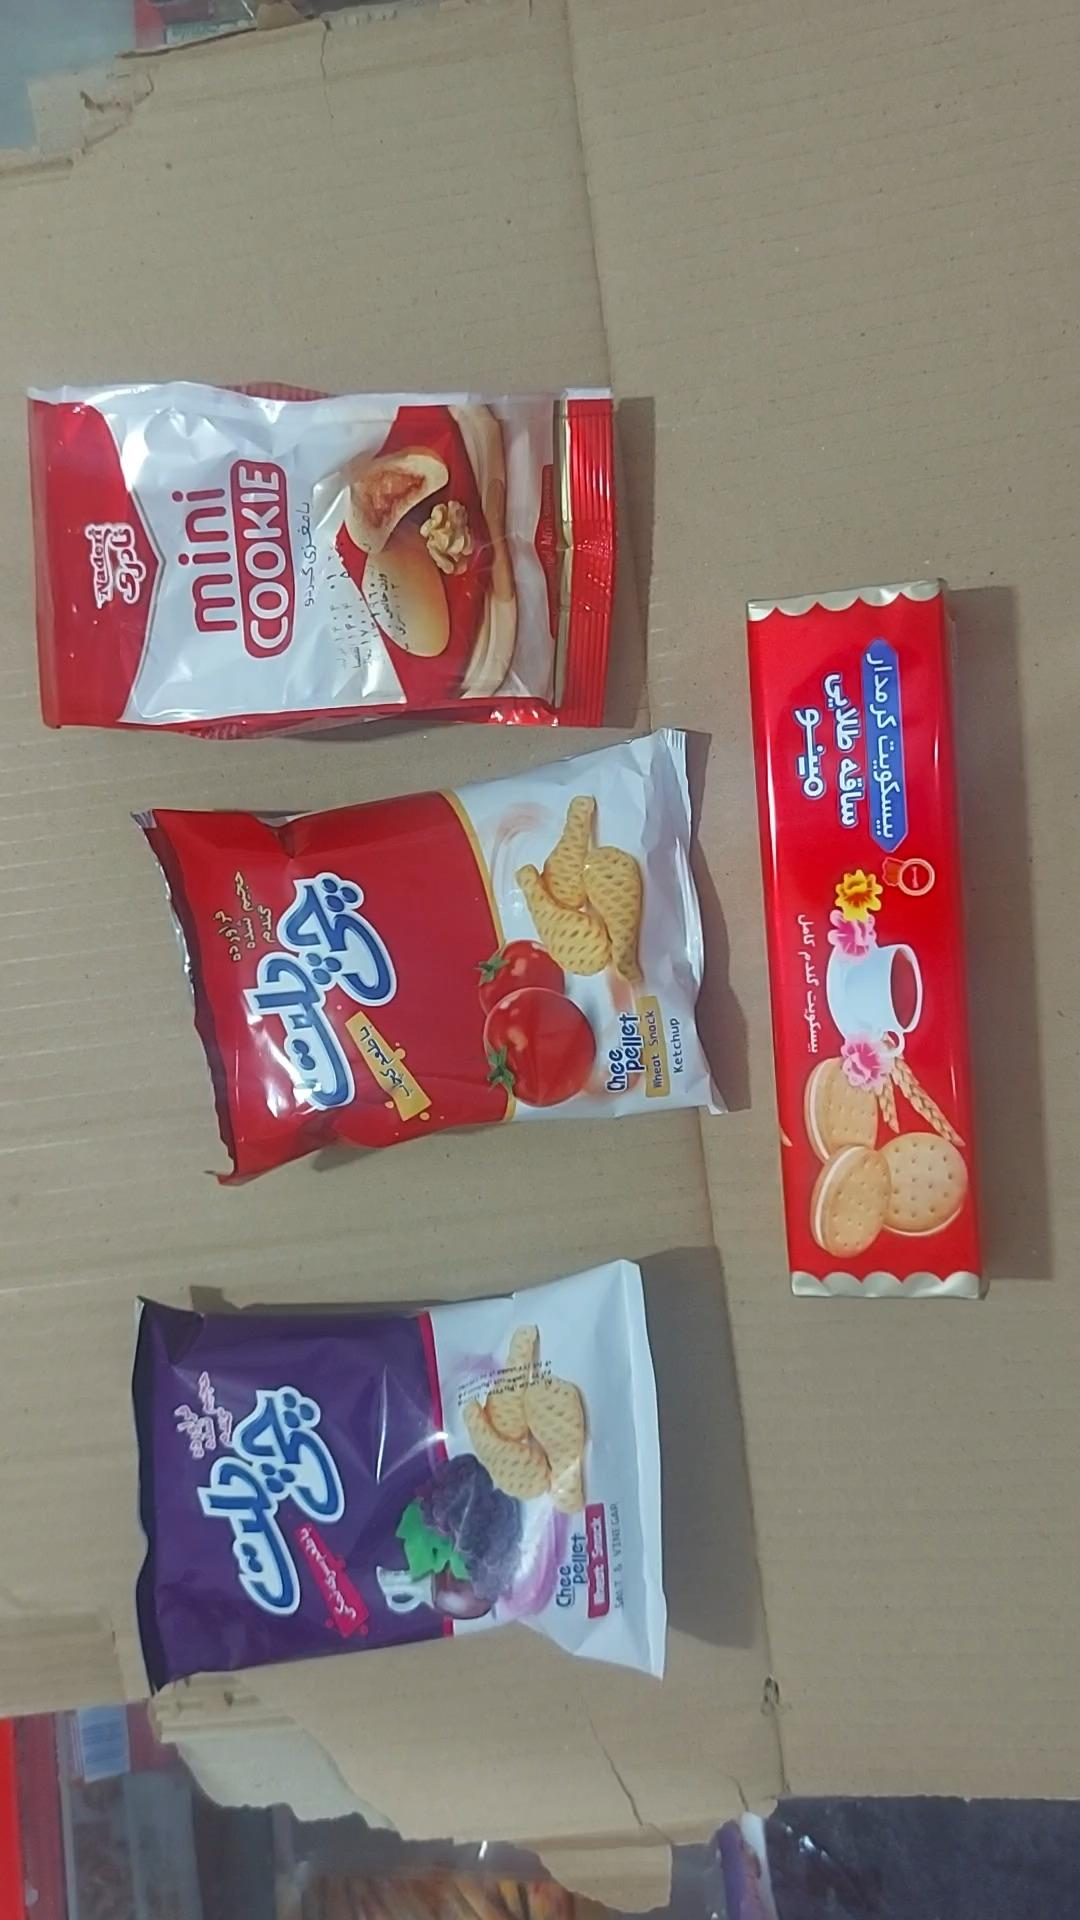Chee pellet ketchup: (135, 729, 731, 1189)
Chee pellet vinegar: (129, 1261, 669, 1695)
Minoo cream biscuit: (746, 578, 985, 1303)
Naderi mini cookie: (26, 381, 617, 742)
